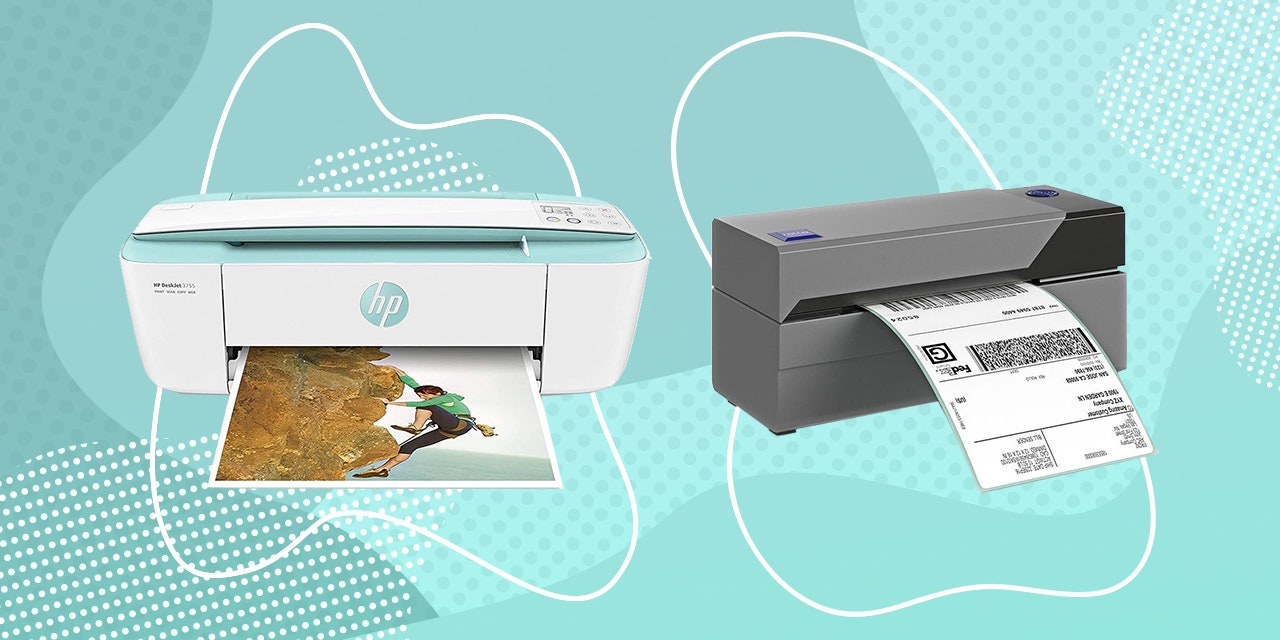printer: (107, 173, 656, 414), (701, 178, 1154, 437)
